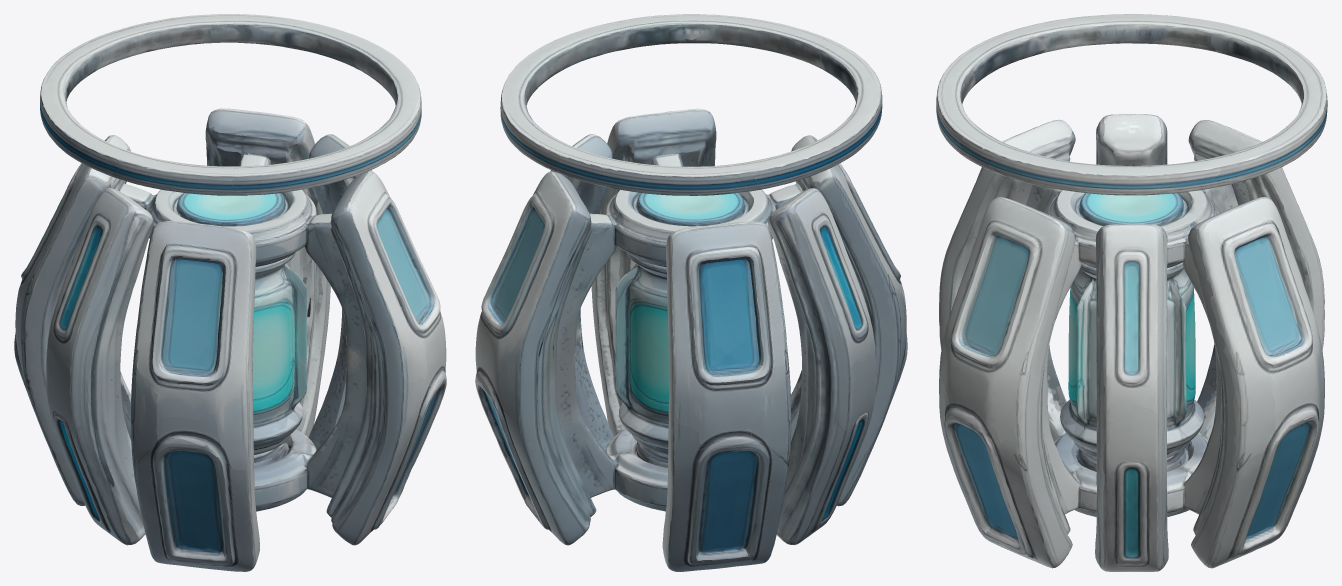
File: purifier_stage3.glb
The picture shows the model from 3 angles, left to right: view 1: azimuth 30°, elevation 25°; view 2: azimuth 150°, elevation 25°; view 3: azimuth 270°, elevation 25°; orthographic projection.
Parts seen in each view (by area): view 1: world; view 2: world; view 3: world.
Part boxes in pixels (<box>): world: <box>14,14,446,571</box>; world: <box>475,14,907,571</box>; world: <box>936,14,1327,571</box>.
Bounding box in the file's own units: 0.8792 × 0.9995 × 0.8428.
Materials: 1 (1 with a texture image).
